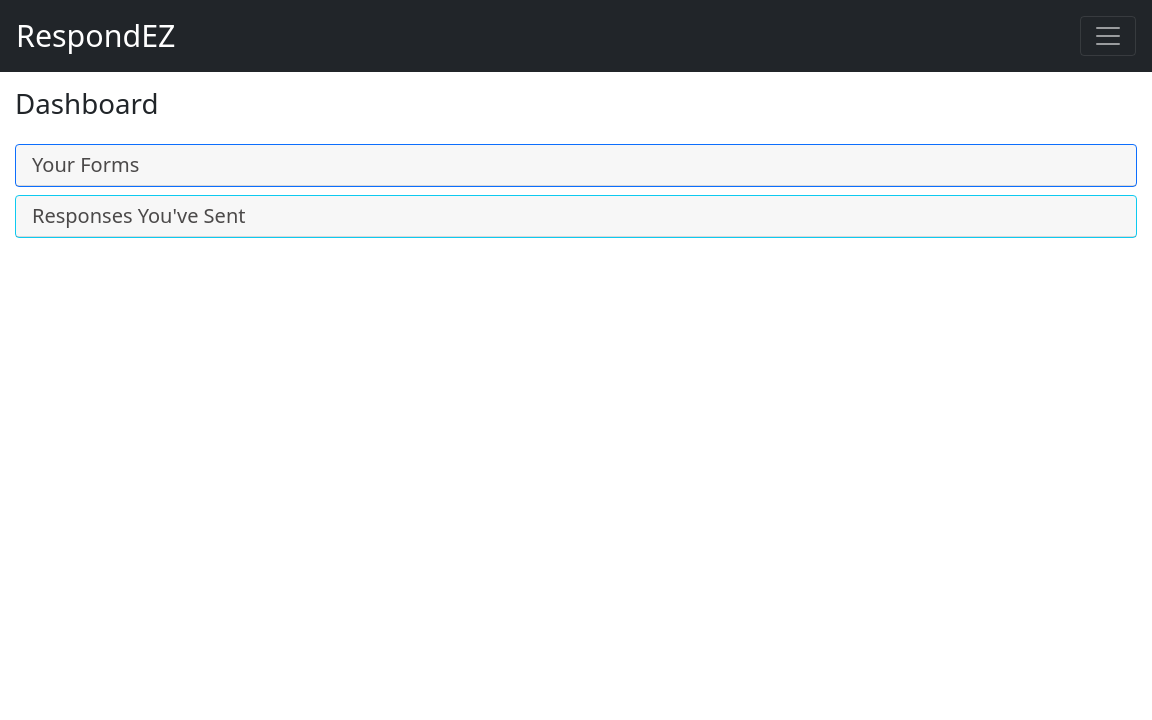
Test: newtest › prevents user from create event and fill response before loggin in
Step 1. Click the button with test id "menuButtonCy" → {"x": 1108, "y": 36}, box [1080,16,1136,56]
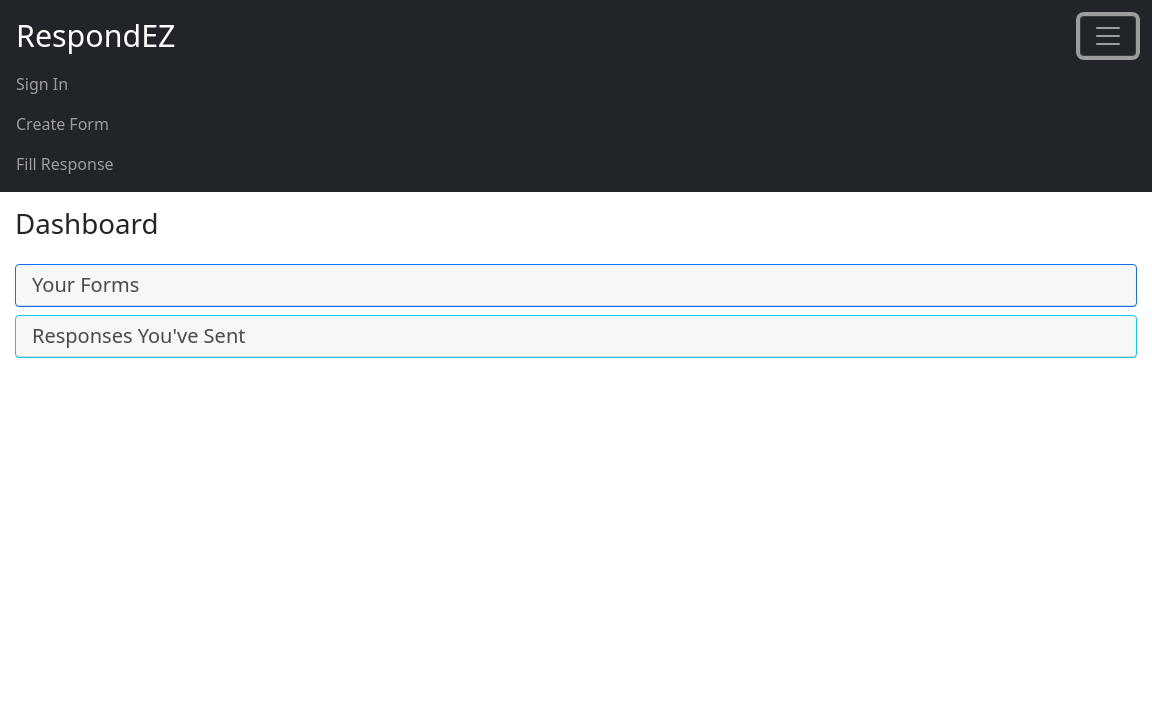
Expected: the button with test id "navigationCy" reads "Sign In", [16,73,68,95]
Expected: the button with test id "navigationCy" reads "Create Form", [16,113,109,135]
Expected: the button with test id "navigationCy" reads "Fill Response", [16,153,114,175]
Step 2. Scroll
Step 3. Click the button with test id "createFormCy" → {"x": 63, "y": 124}, box [16,113,109,135]
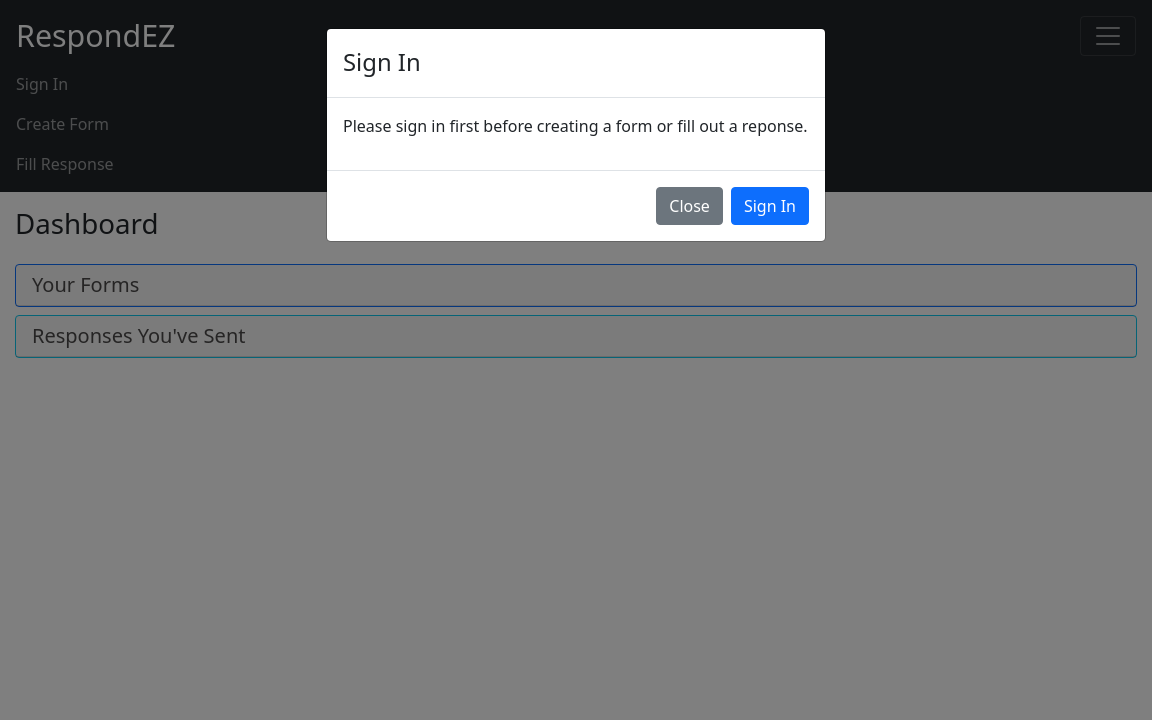
Expected: the text with test id "loginModalCy" reads "Sign In", [343,46,421,78]
